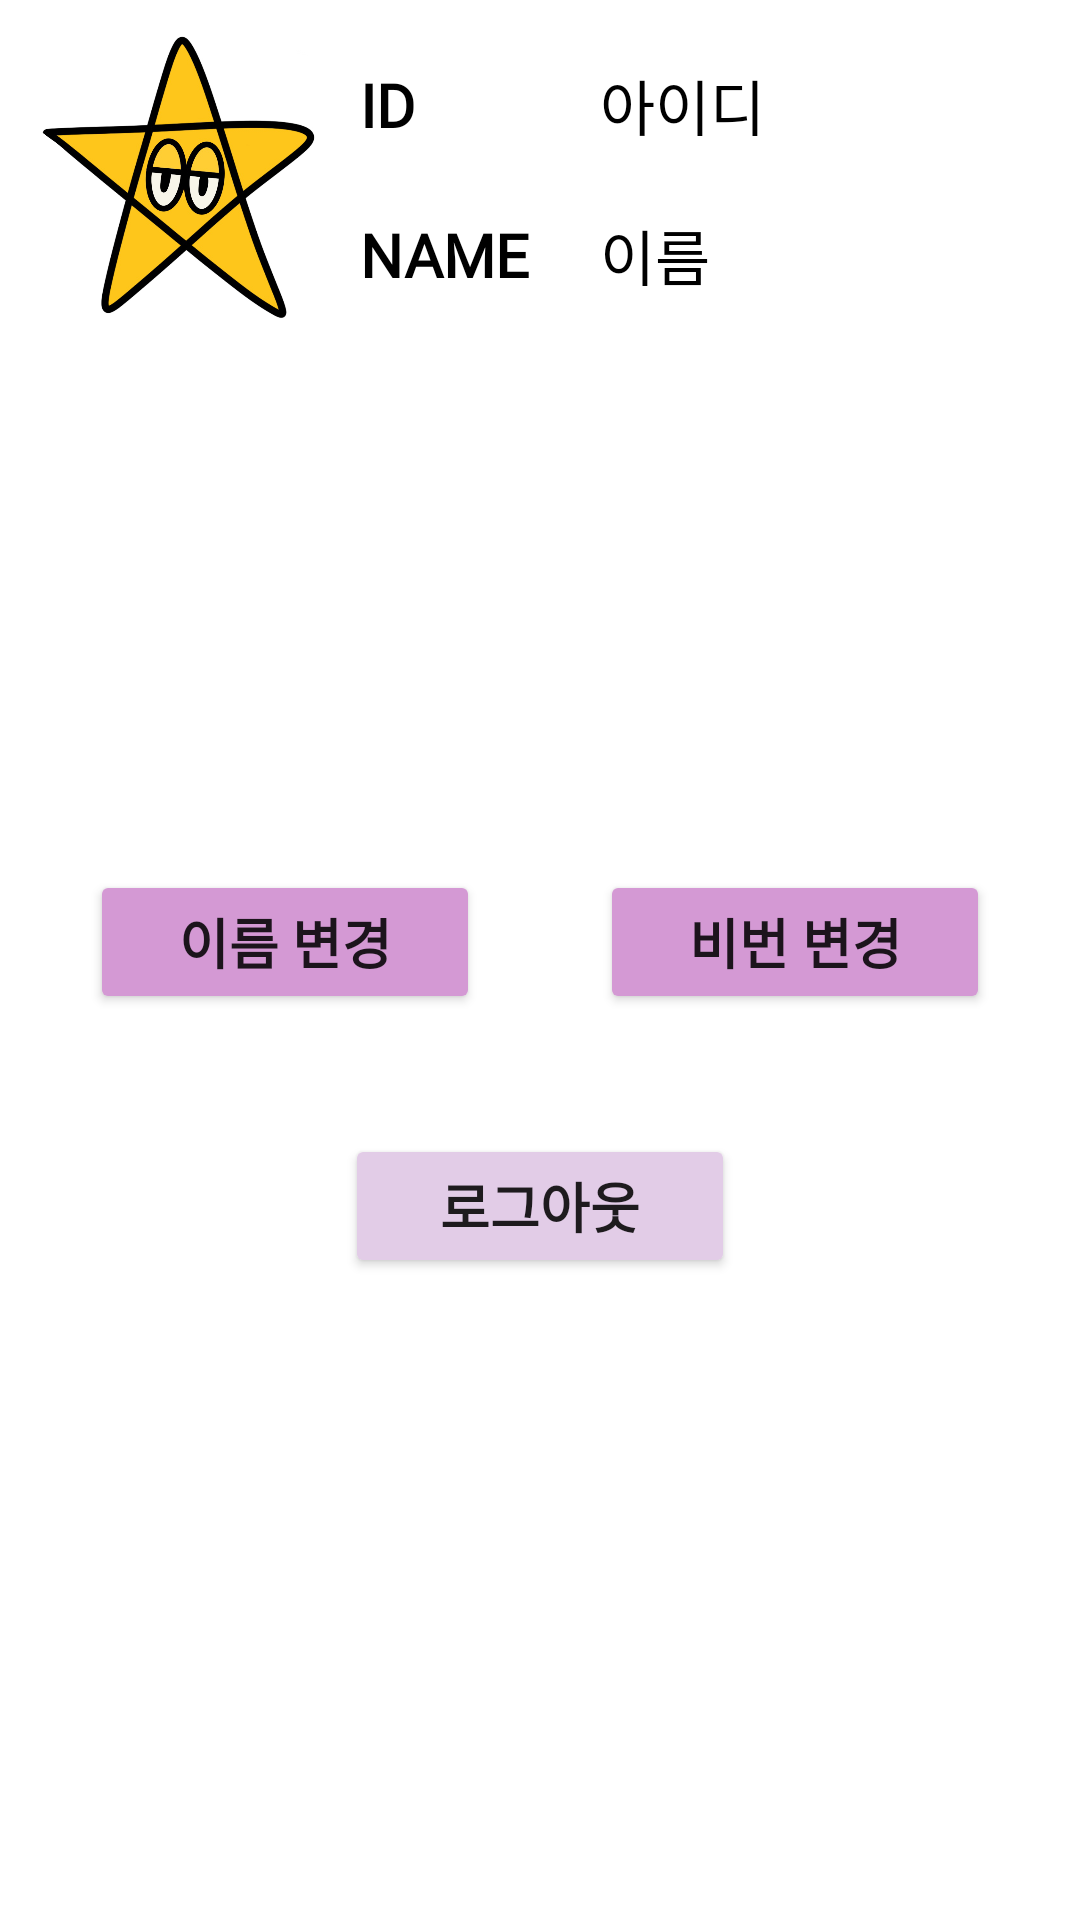

Icon bounding boxes for this 1080×1920 phone screenshot, format (x1, y1, x2, y2):
star: (43, 37, 315, 318)
